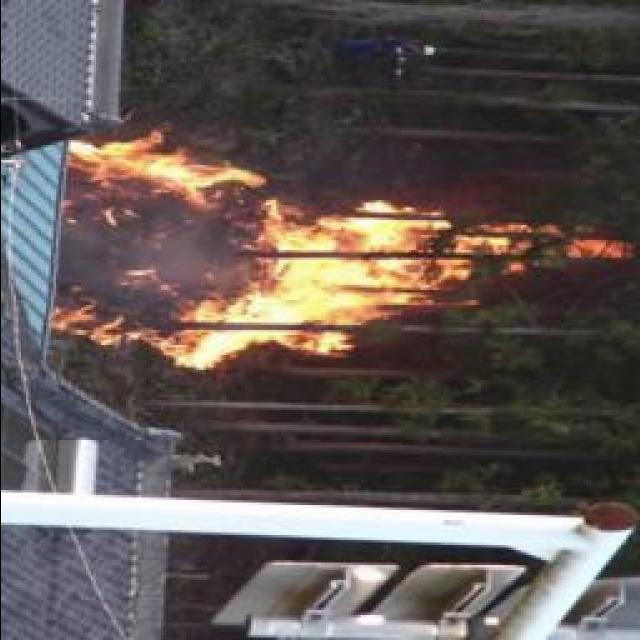Fire: (54, 140, 578, 362)
